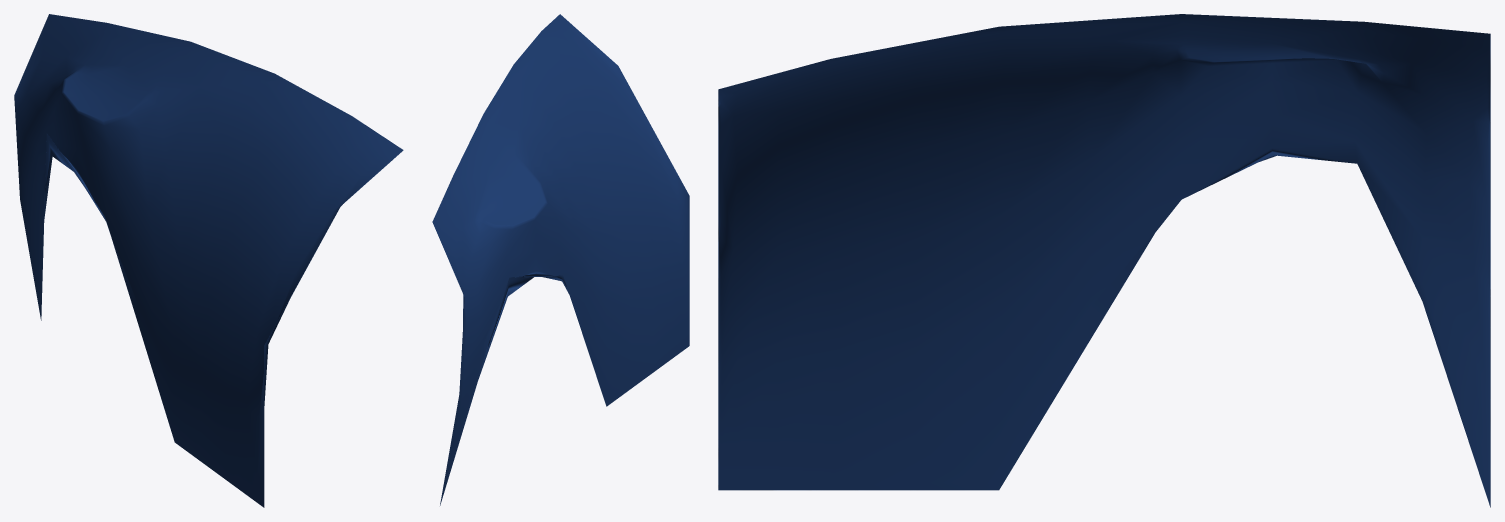
Rendered from quarter_rear_r.glb.
3 views of the same model, side by side, from view 1: azimuth 30°, elevation 25°; view 2: azimuth 150°, elevation 25°; view 3: azimuth 270°, elevation 25° (orthographic). The views are drawn at different scales.
Parts seen in each view (by area): view 1: GEO_Quarter_Rear_R; view 2: GEO_Quarter_Rear_R; view 3: GEO_Quarter_Rear_R.
Boxes of the visible parts, x1=… form: GEO_Quarter_Rear_R: x1=14, y1=14, x2=403, y2=507; GEO_Quarter_Rear_R: x1=432, y1=14, x2=689, y2=505; GEO_Quarter_Rear_R: x1=718, y1=14, x2=1490, y2=507.
Size of the model in its own units: 0.39 by 0.8491 by 1.1.
